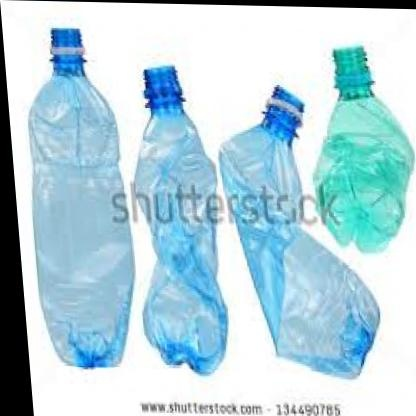trash: (220, 86, 378, 377), (29, 28, 133, 366), (134, 66, 226, 373), (314, 46, 413, 250)
